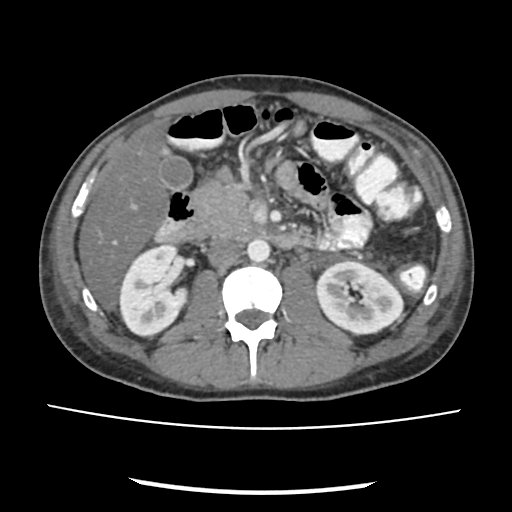aorta: (245, 238, 270, 263)
